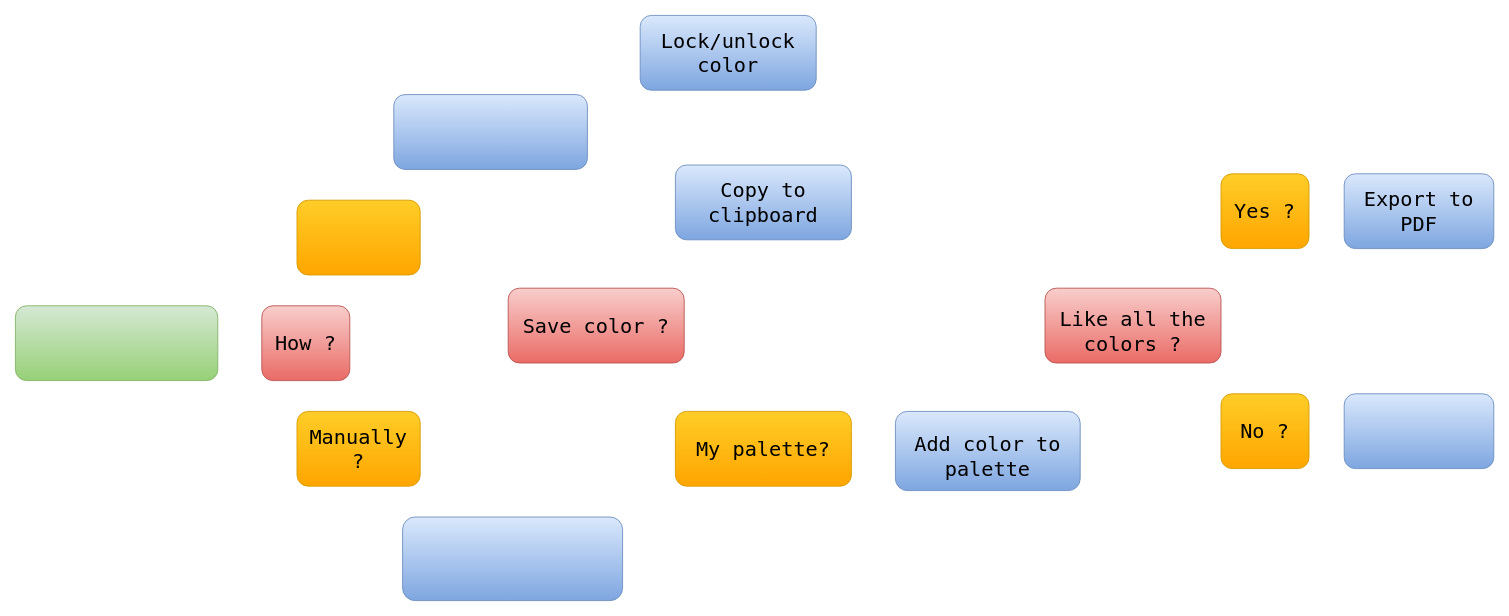
The diagram is 1509 pixels wide and 616 high, and some of its shapes have lost their labels. The shapes that lost their labels are listed below. From the top down, each one's box as (x1, y1, x2, y2) in pixels, then its label:
(393, 94, 587, 169): Press space or button
(296, 199, 420, 275): Random ?
(15, 305, 218, 381): Generate color
(1343, 393, 1494, 469): Remove a color
(402, 516, 623, 601): Activate color picker functionality
